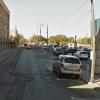Car: (48, 49, 86, 79)
